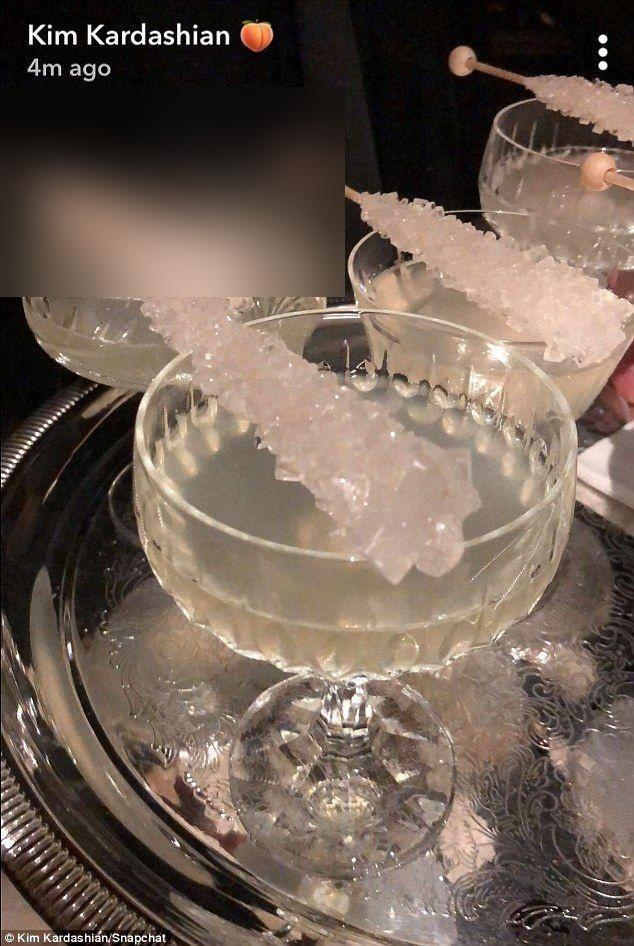glass-wine: (128, 299, 591, 902), (349, 190, 632, 613), (474, 92, 631, 440)
